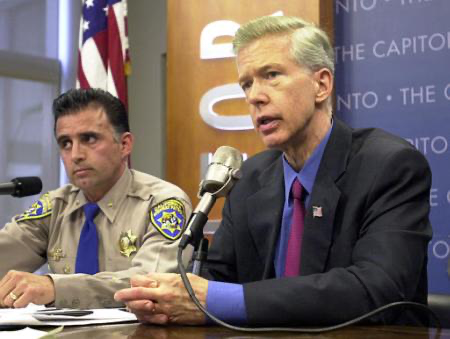Face: (234, 53, 328, 151), (46, 117, 126, 192)
